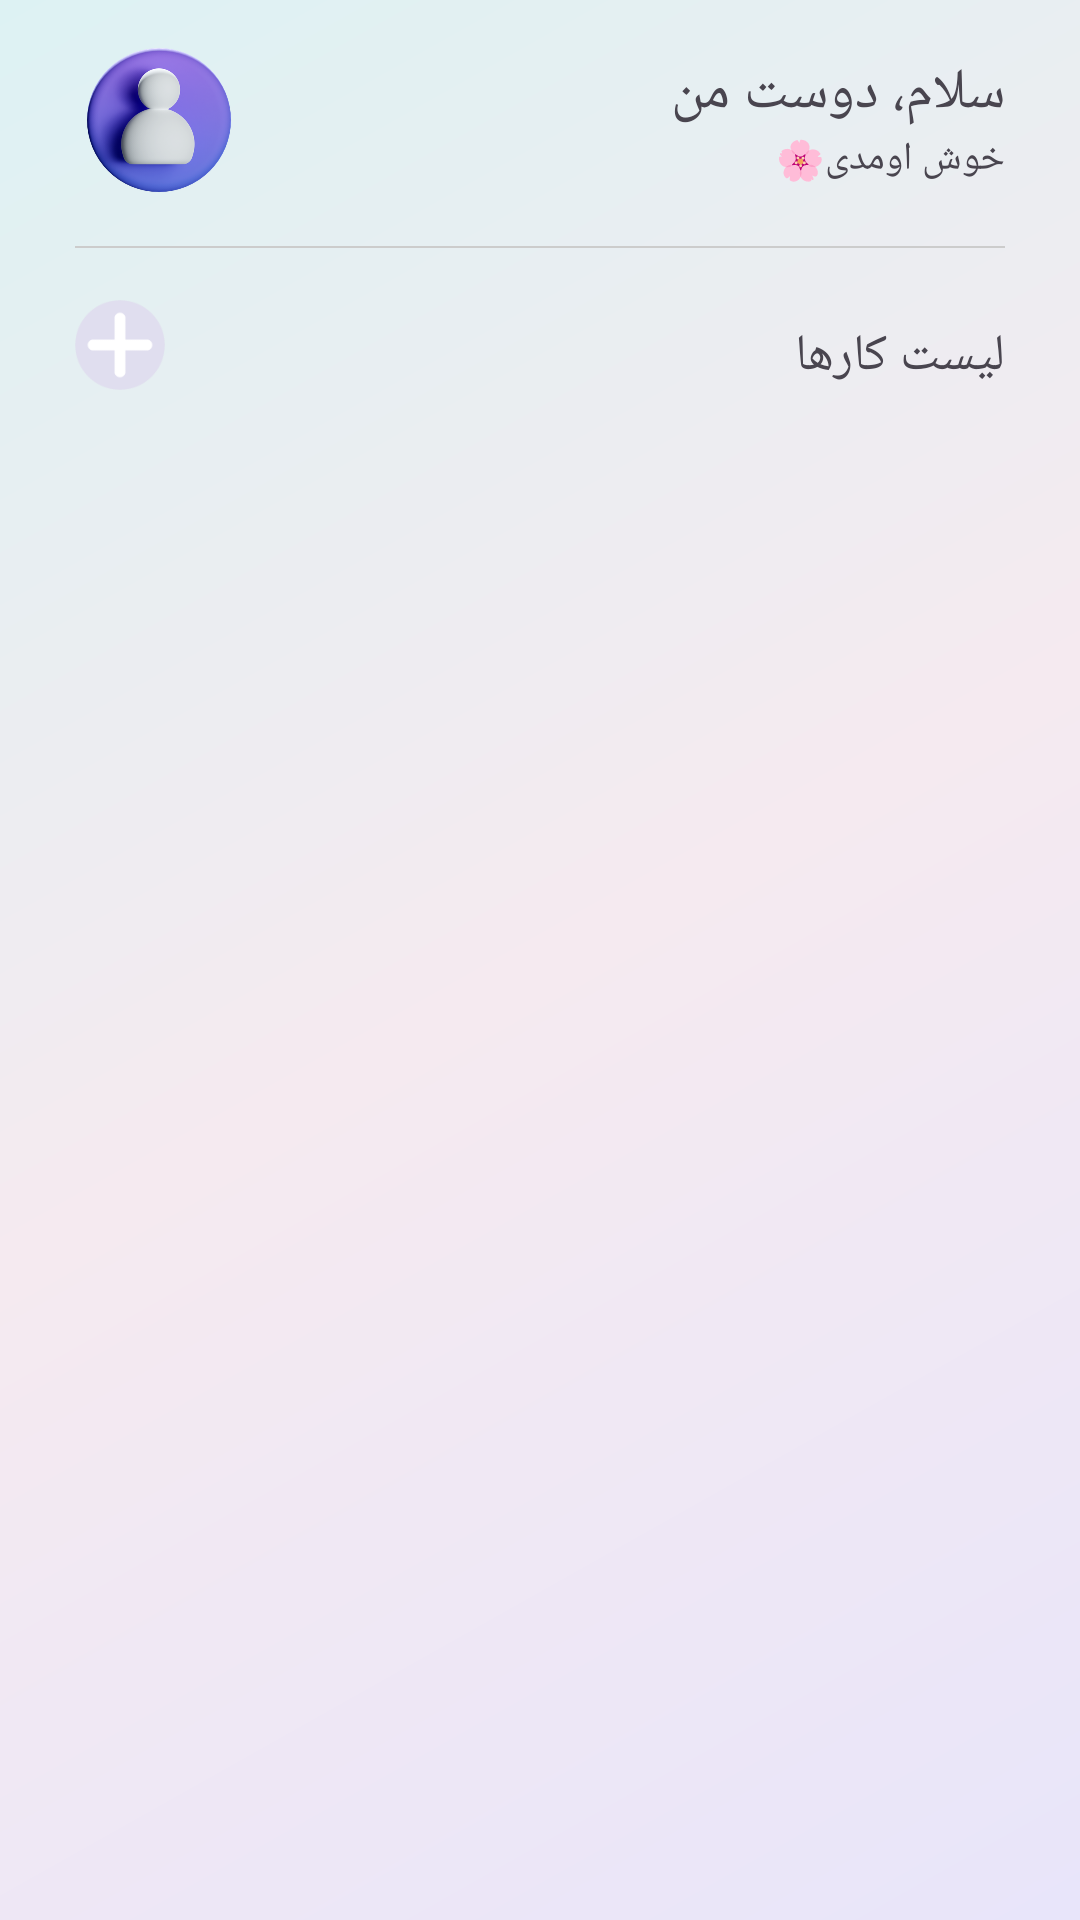

Where to tap for icons on this 1080×1920 app screen, as point (x, y):
add: point (120, 345)
profile: point (159, 120)
